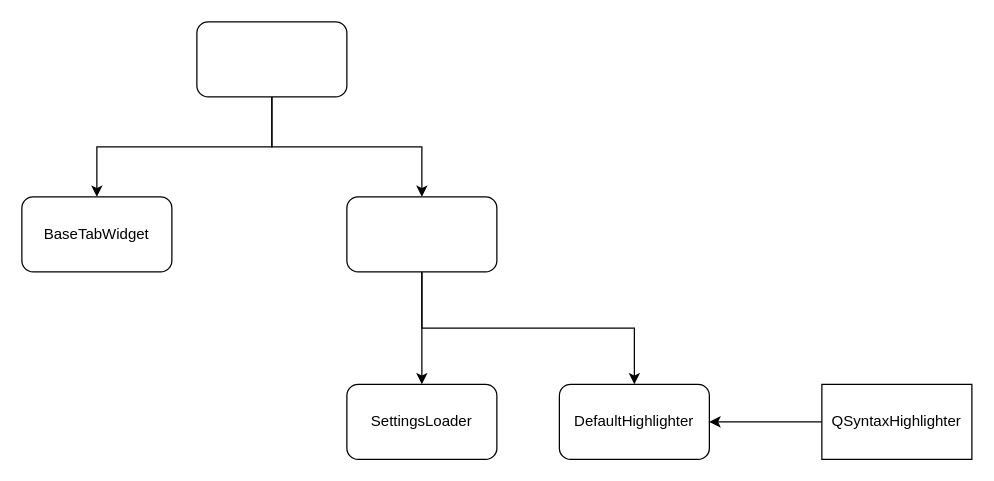
Some shapes in this 994 by 481 pixel diagram are drawn without their labels. Each missing label, with the centre of its shape:
"MainWindow" belongs at (x=271, y=59).
"SettingsMenu" belongs at (x=421, y=234).
